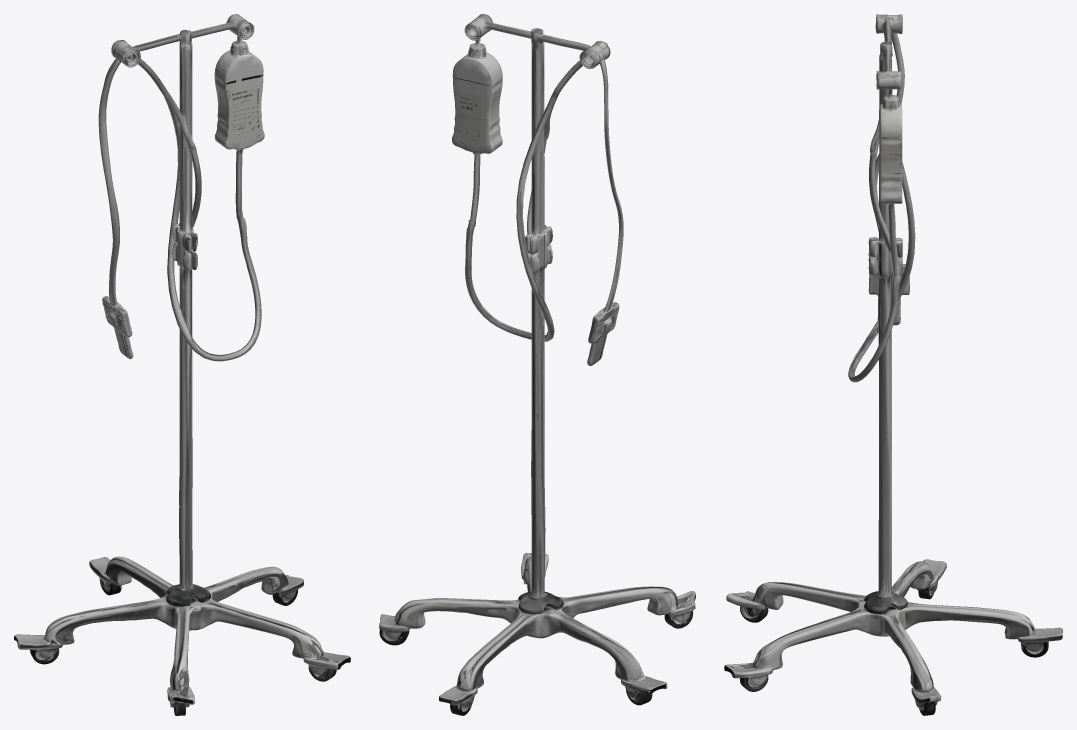
Rendered from hanger.fbx.
The picture shows the model from 3 angles, left to right: view 1: azimuth 30°, elevation 25°; view 2: azimuth 150°, elevation 25°; view 3: azimuth 270°, elevation 25°; orthographic projection. The views are drawn at different scales.
Parts seen in each view (by area): view 1: tripo_node_8fb11272; view 2: tripo_node_8fb11272; view 3: tripo_node_8fb11272.
Part boxes in pixels (x1,y1,x2,y2): tripo_node_8fb11272: (14,14,350,715); tripo_node_8fb11272: (379,14,695,715); tripo_node_8fb11272: (724,14,1062,715).
Size of the model in its own units: 47.05 by 49.1 by 97.98.
Materials: 1 (1 with a texture image).
